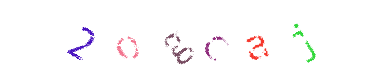2: (41, 0, 121, 80)
A: (216, 0, 296, 80)
C: (150, 0, 230, 80)
G: (147, 0, 227, 80)
J: (265, 0, 345, 80)
O: (128, 0, 208, 80)
